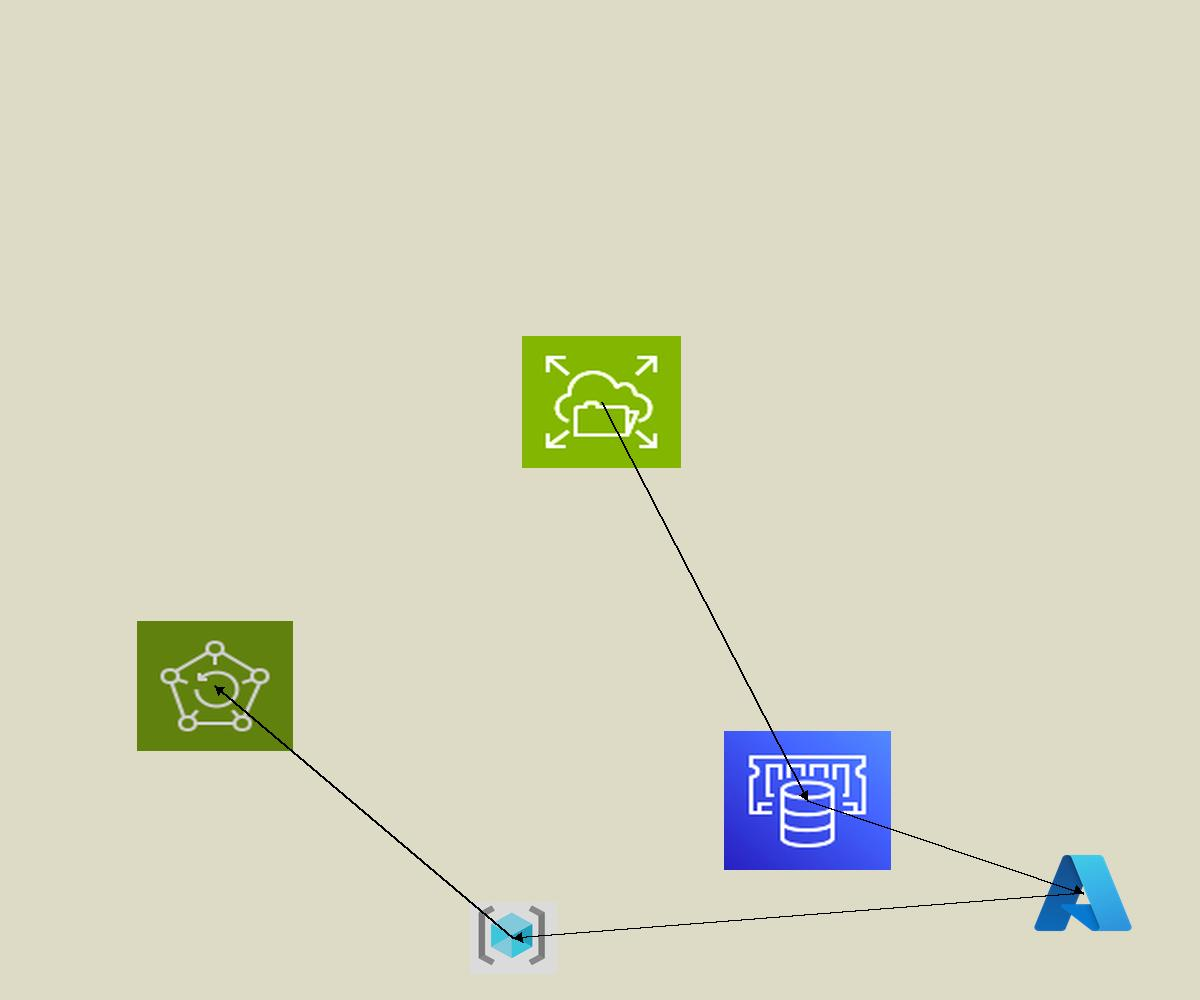AWS-Backup: (137, 621, 293, 751)
AWS-EFS: (522, 336, 681, 468)
AWS-ElastiCache: (724, 731, 891, 870)
Azure_resource_group: (470, 902, 557, 974)
Azure_services: (1030, 849, 1136, 937)
